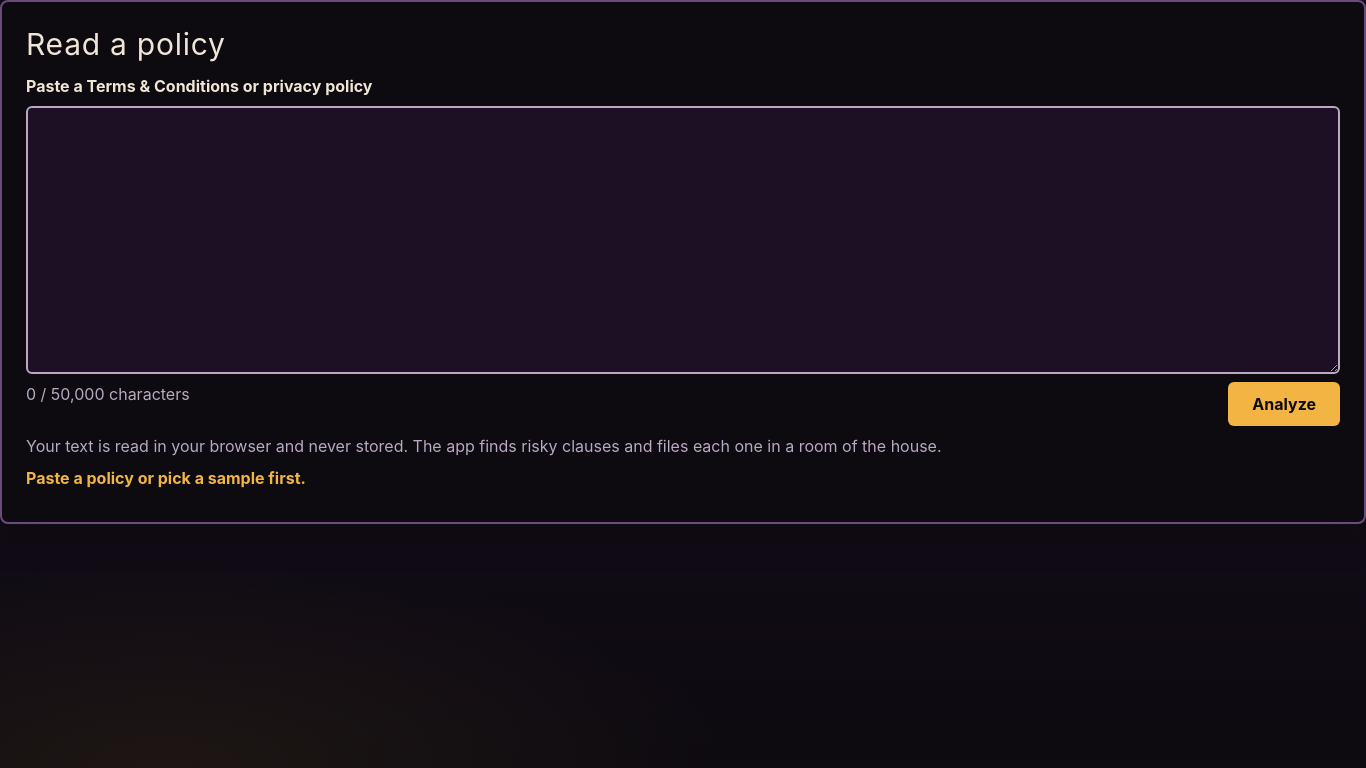
Test: InputScreen (R2) › clears the empty message when the user types
Step 1. Type "x" into the text box labelled "Paste a Terms & Conditions or privacy policy" → (683, 240), box [26, 106, 1340, 374]
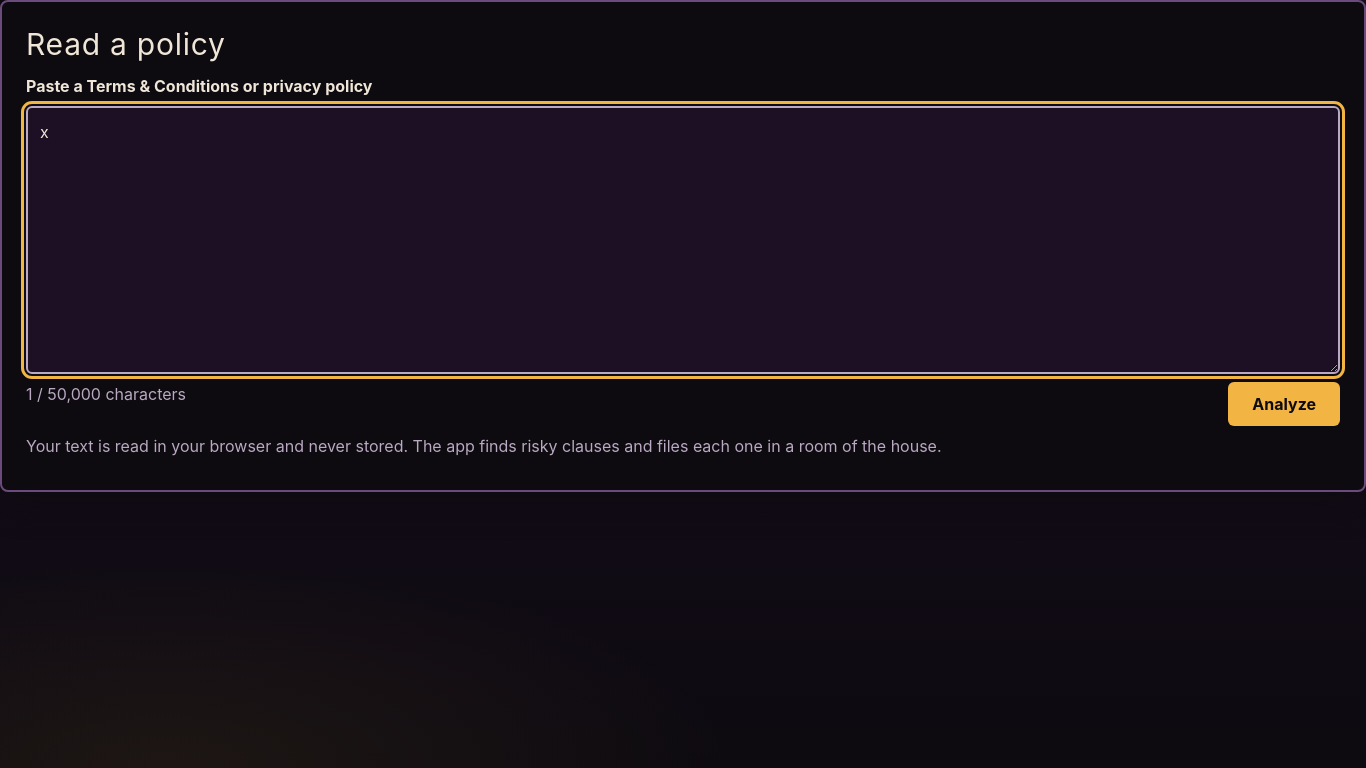
Check: the text "Paste a policy or pick a sample first." is gone
